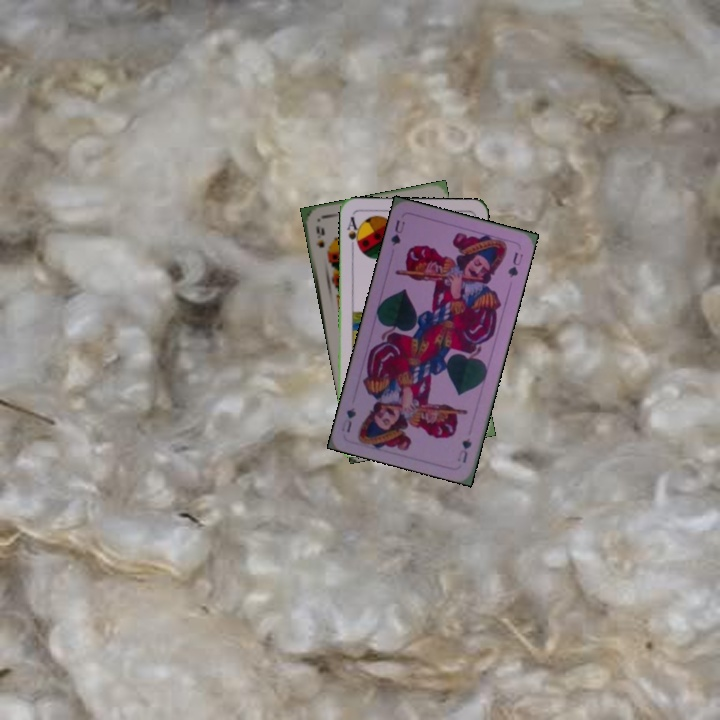GU: (453, 434, 474, 465), (387, 216, 407, 248)
S9: (312, 222, 327, 250)
SA: (343, 213, 362, 253)
